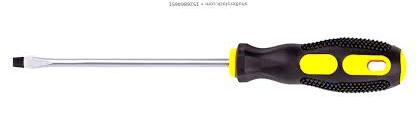Screwdriver: (9, 33, 416, 105)
